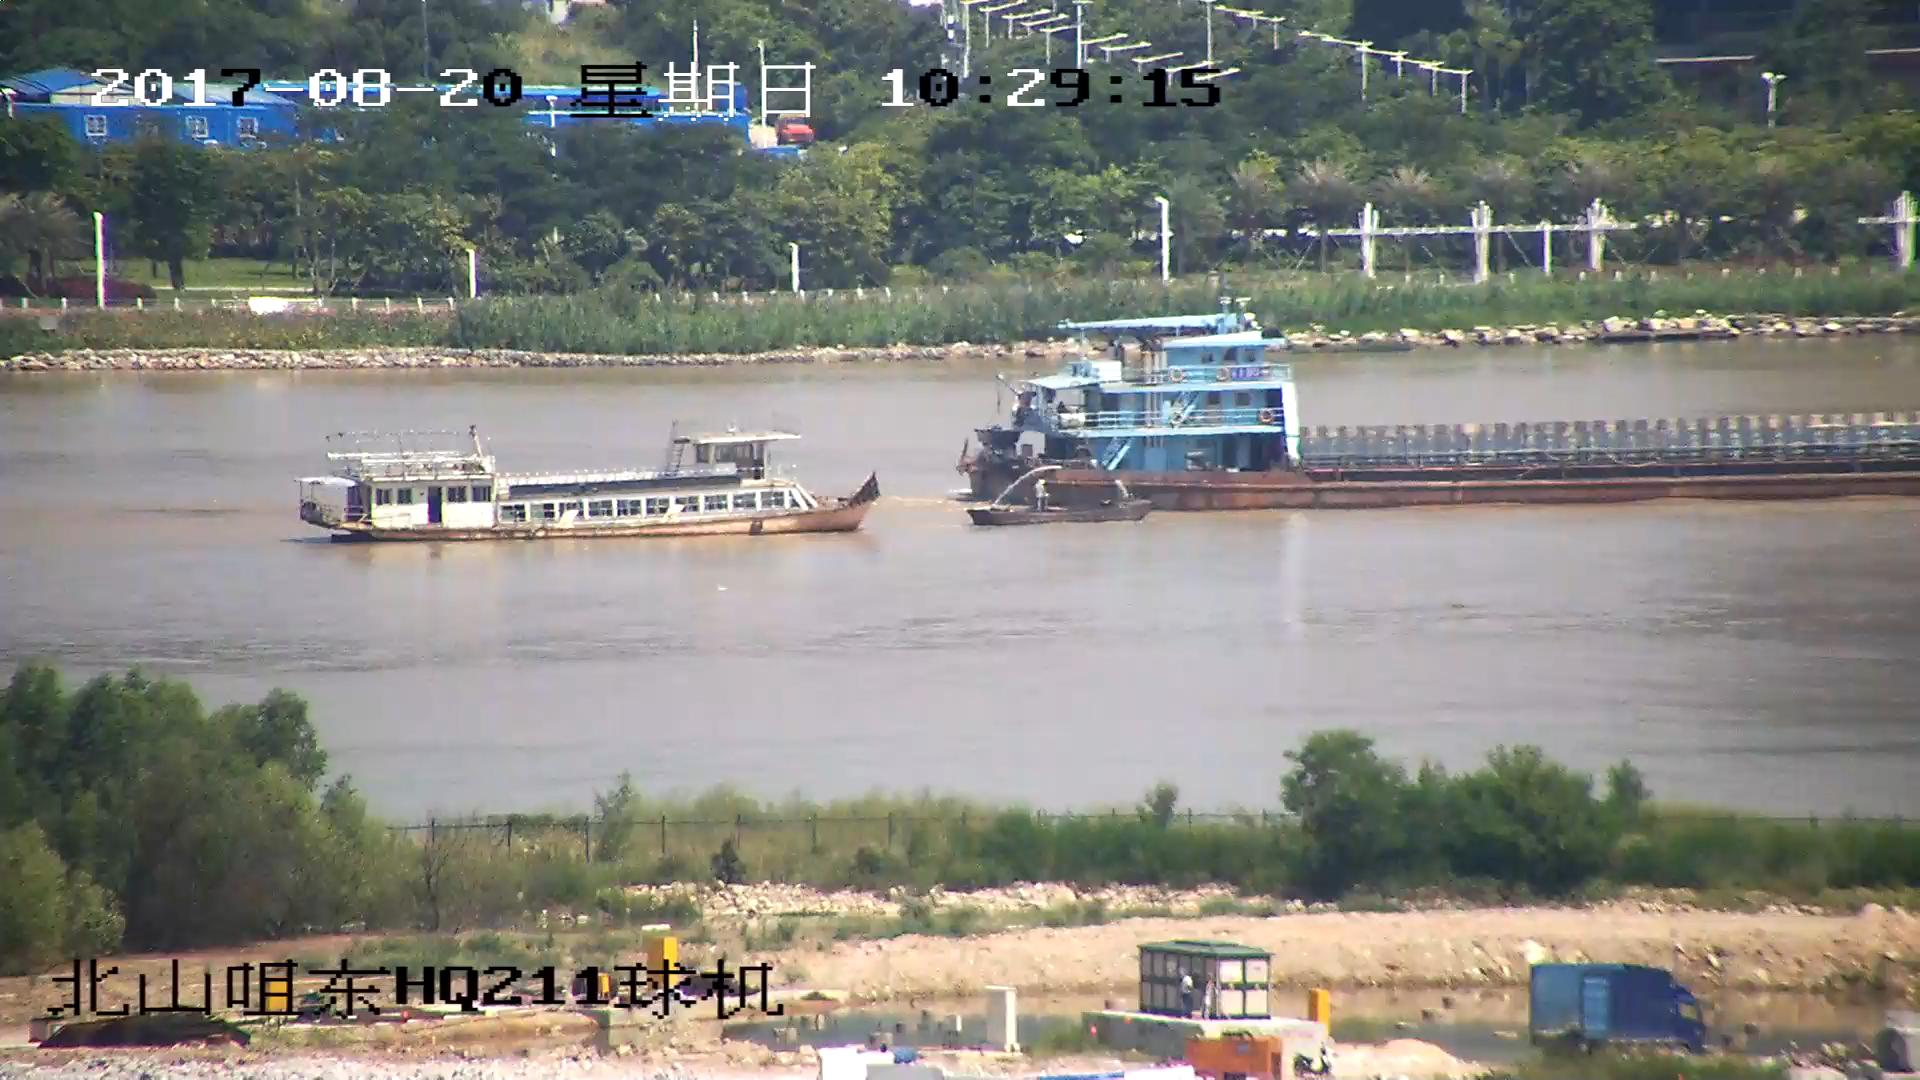fishing boat: (293, 418, 880, 546), (968, 476, 1153, 527)
ore carrier: (948, 310, 1920, 507)
